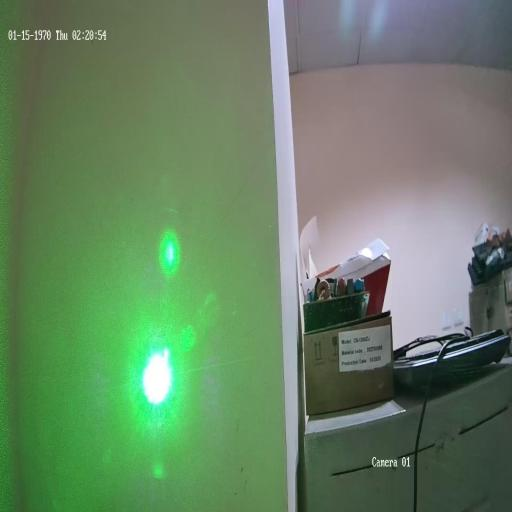laser: (138, 339, 179, 409)
